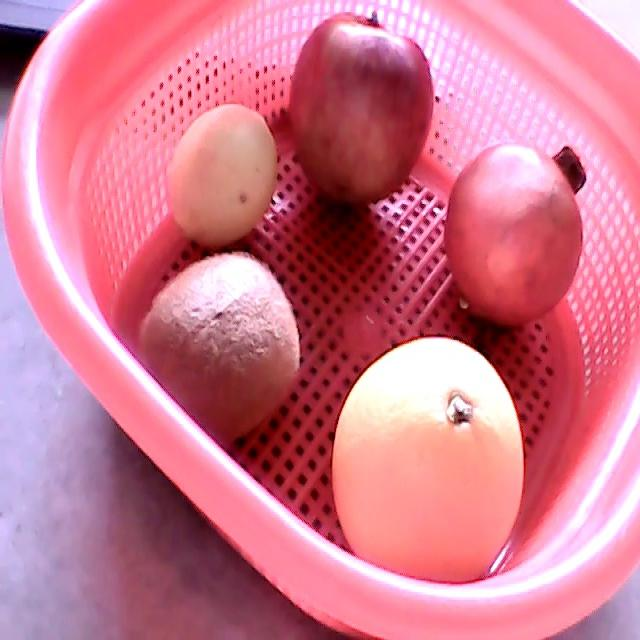apple: (289, 10, 435, 205)
kiwi: (139, 253, 301, 444)
lemon: (167, 106, 277, 249)
orange: (331, 336, 524, 584)
pomegranate: (444, 143, 588, 326)
